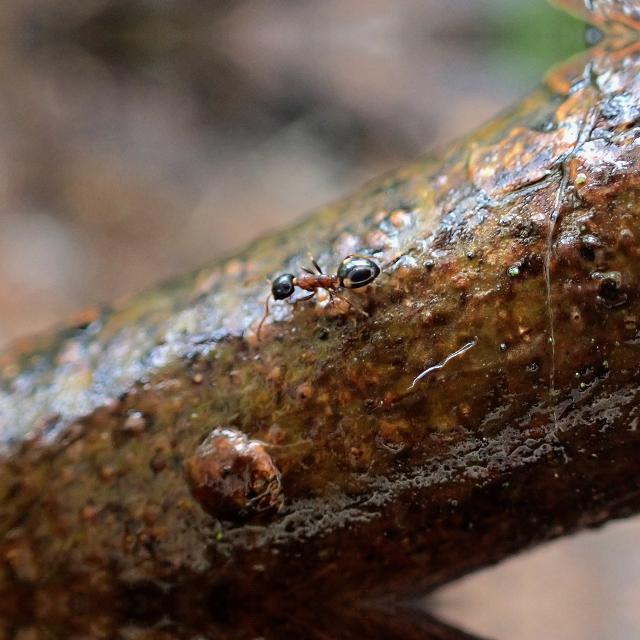Dolichoderus: (247, 236, 401, 320)
